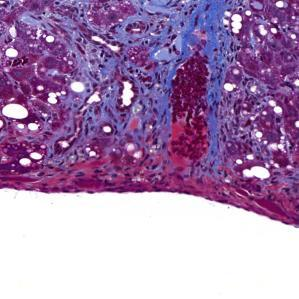fibrosis: (70, 20, 175, 137)
